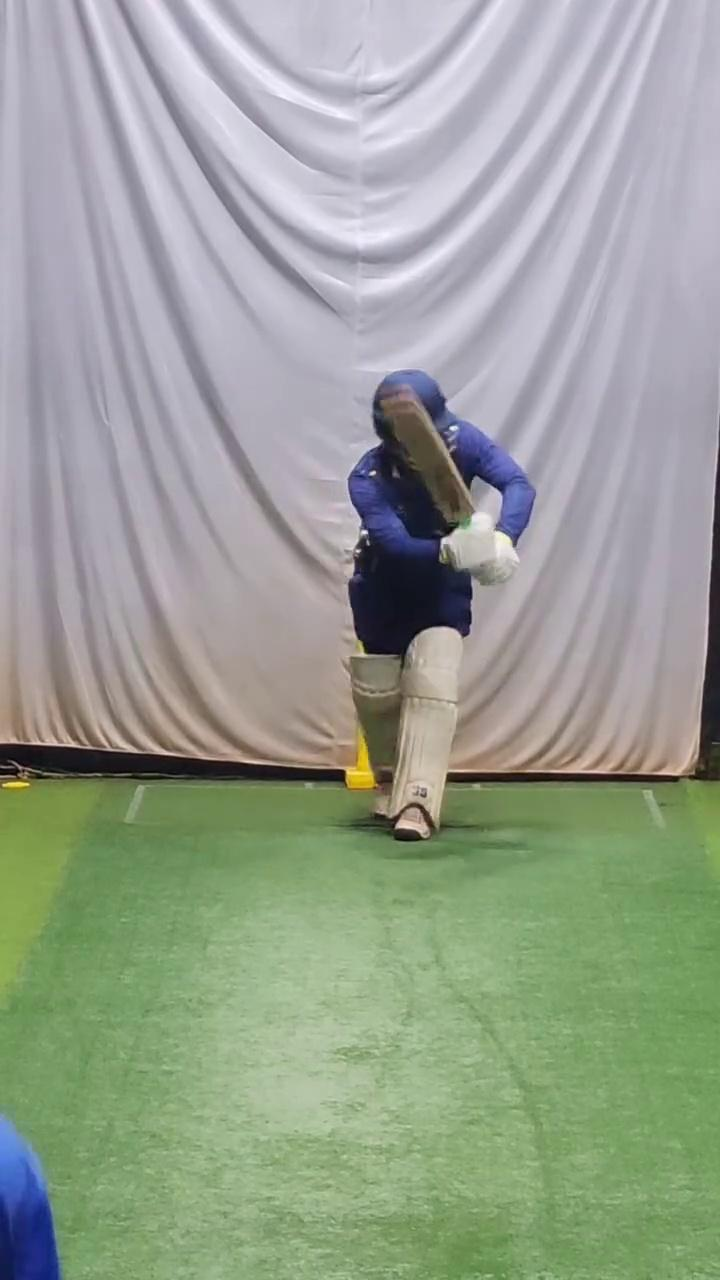bat: (377, 382, 478, 528)
